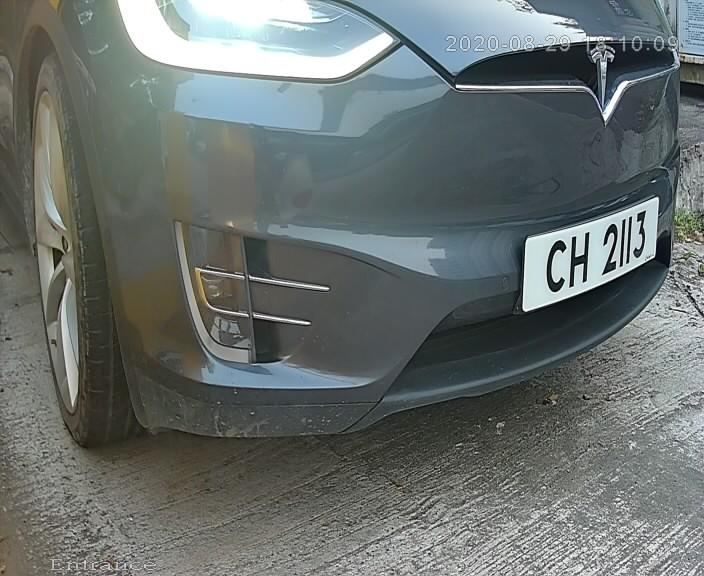License Plate: (510, 196, 657, 314)
